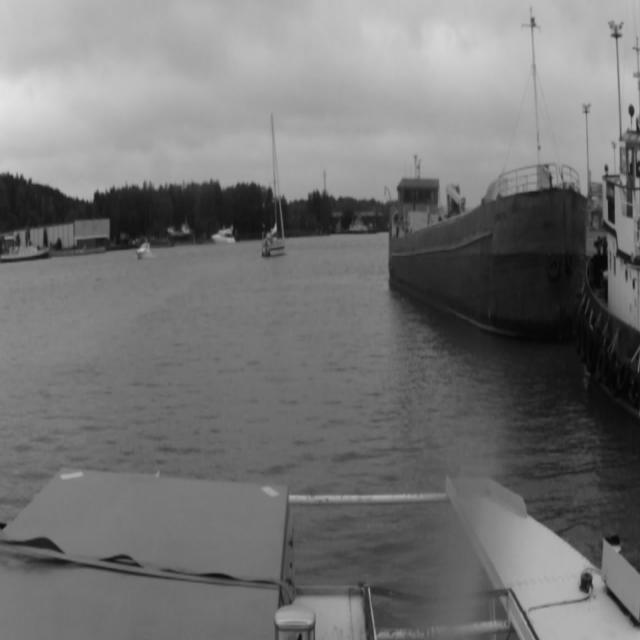ship: (371, 139, 587, 365), (261, 113, 285, 258), (0, 241, 52, 264), (211, 226, 235, 243), (136, 242, 152, 260)
